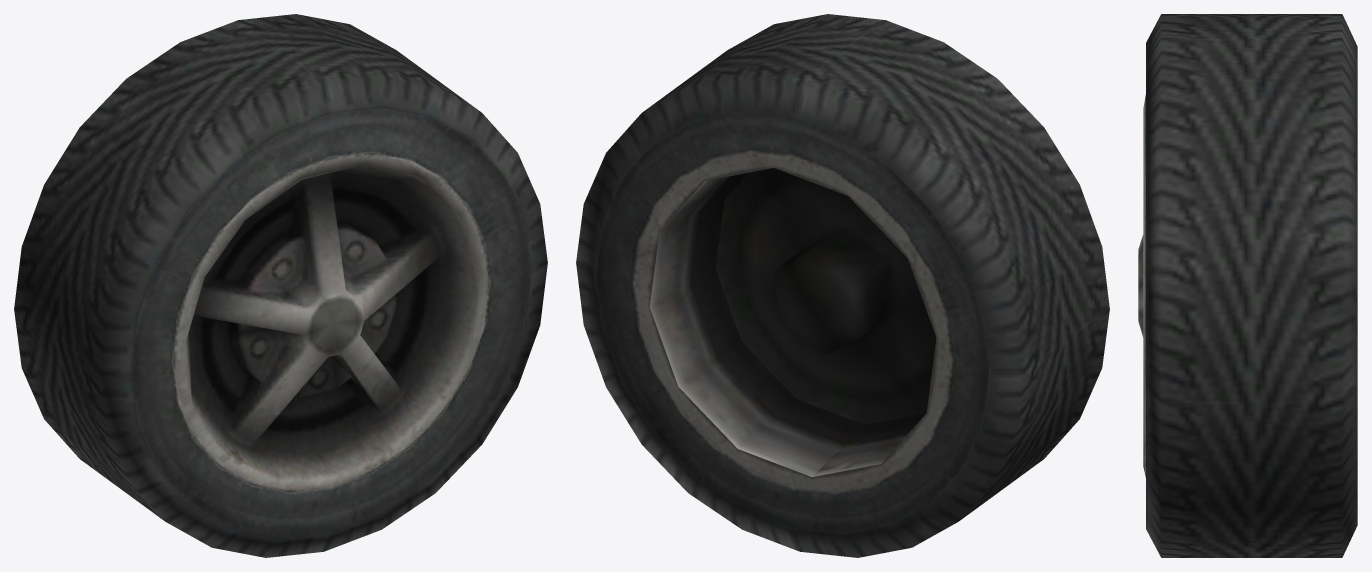
Rendered from V_A_ClassicMuscle_Wheels_1_SkeletalMesh3_SkeletalMesh_12.psk.glb.
The picture shows the model from 3 angles, left to right: view 1: azimuth 30°, elevation 25°; view 2: azimuth 150°, elevation 25°; view 3: azimuth 270°, elevation 25°; orthographic projection. The views are drawn at different scales.
Size of the model in its own units: 67.92 by 67.92 by 27.32.
1 material, 1 textured.
